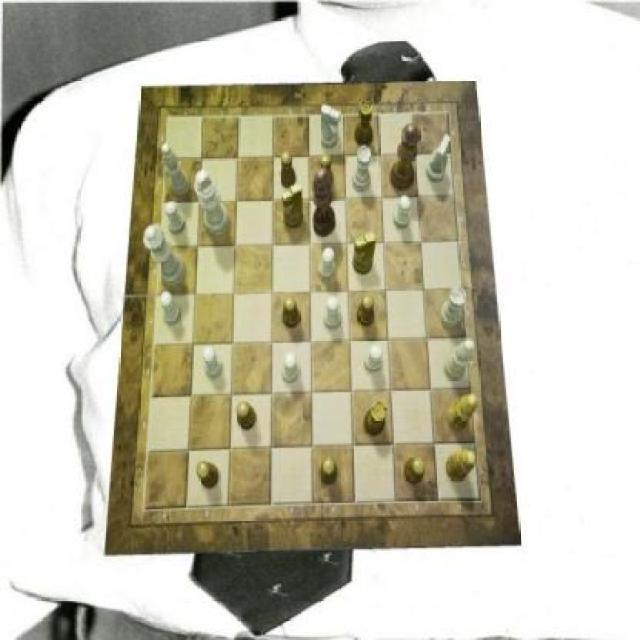bishop: (448, 392, 478, 430), (446, 451, 477, 483)
black-bishop: (312, 168, 336, 238)
black-king: (281, 183, 304, 229), (354, 232, 377, 275)
black-knight: (317, 152, 334, 190), (197, 462, 220, 489), (405, 457, 427, 485), (357, 294, 375, 328), (280, 151, 296, 188), (237, 402, 257, 431), (282, 297, 299, 329), (319, 457, 336, 485)
black-pawn: (391, 125, 421, 192)
black-queen: (364, 402, 388, 438), (355, 100, 373, 148)
black-rook: (162, 145, 190, 197), (444, 338, 474, 381)
white-bishop: (194, 169, 229, 237)
white-king: (426, 134, 451, 183), (320, 104, 340, 148)
white-knight: (203, 344, 223, 378), (162, 291, 182, 325), (166, 202, 186, 236), (318, 248, 336, 282), (325, 295, 342, 330), (394, 196, 411, 230), (282, 352, 299, 385), (365, 345, 382, 372)
white-pawn: (143, 224, 185, 288)
white-queen: (438, 288, 466, 328), (352, 146, 372, 192)
